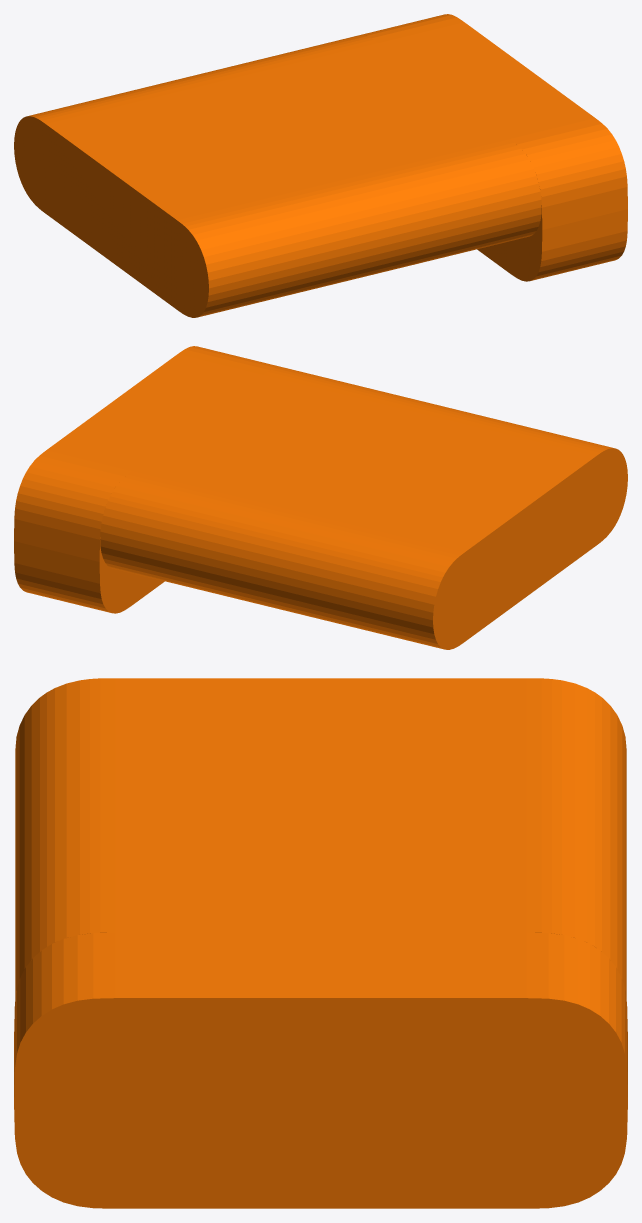
3 views of the same model, one above another, from view 1: azimuth 30°, elevation 25°; view 2: azimuth 150°, elevation 25°; view 3: azimuth 270°, elevation 25° (orthographic). The views are drawn at different scales.
Visible parts, largest first — view 1: Cylinder; view 2: Cylinder; view 3: Cylinder.
Boxes of the visible parts, x1,y1,x2,y2 form: Cylinder: [14, 14, 627, 317]; Cylinder: [14, 346, 627, 649]; Cylinder: [14, 678, 627, 1208].
Size of the model in its own units: 127 by 103 by 39.
